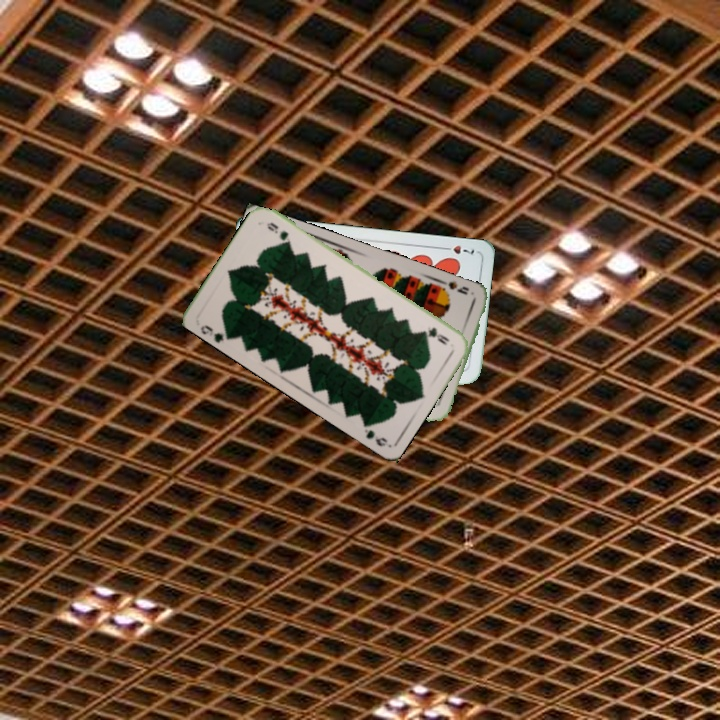G9: (196, 321, 233, 344), (419, 323, 452, 348)
H7: (438, 241, 477, 257)
S9: (435, 276, 471, 297)
